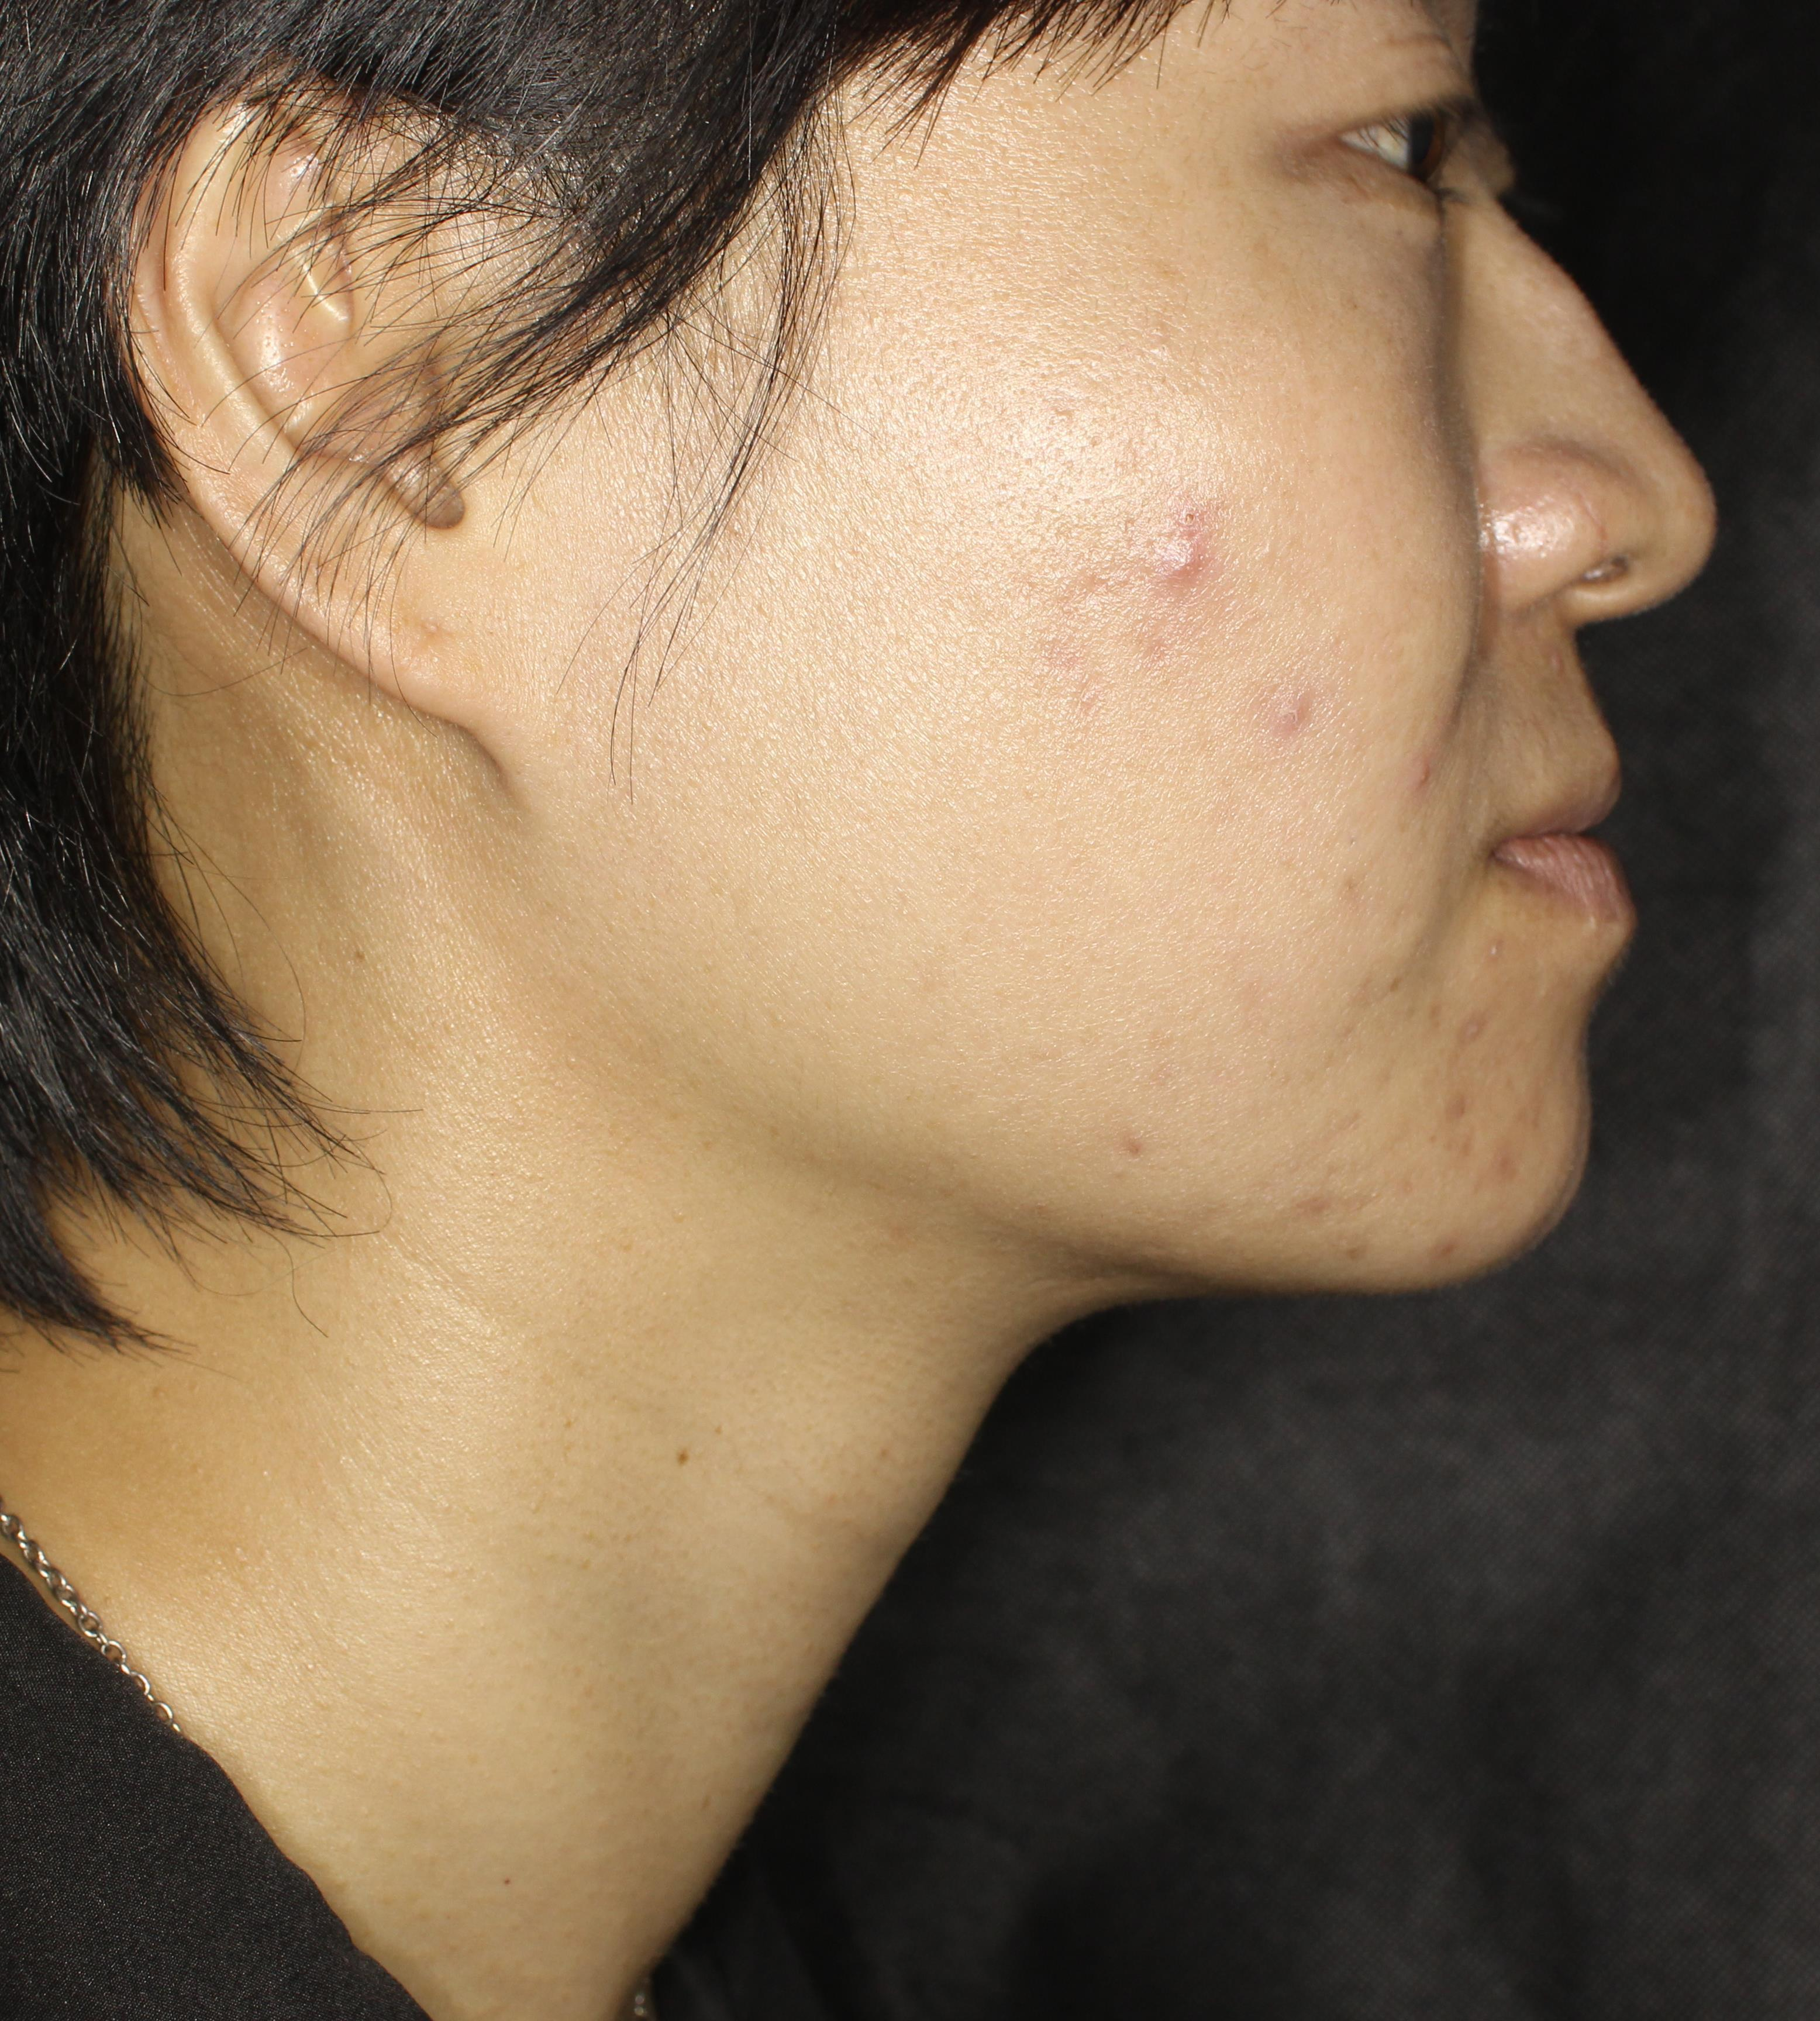fore: (1430, 1078, 1521, 1213), (1103, 532, 1228, 613), (1300, 1150, 1377, 1280), (1251, 680, 1349, 760), (1390, 729, 1453, 797)
